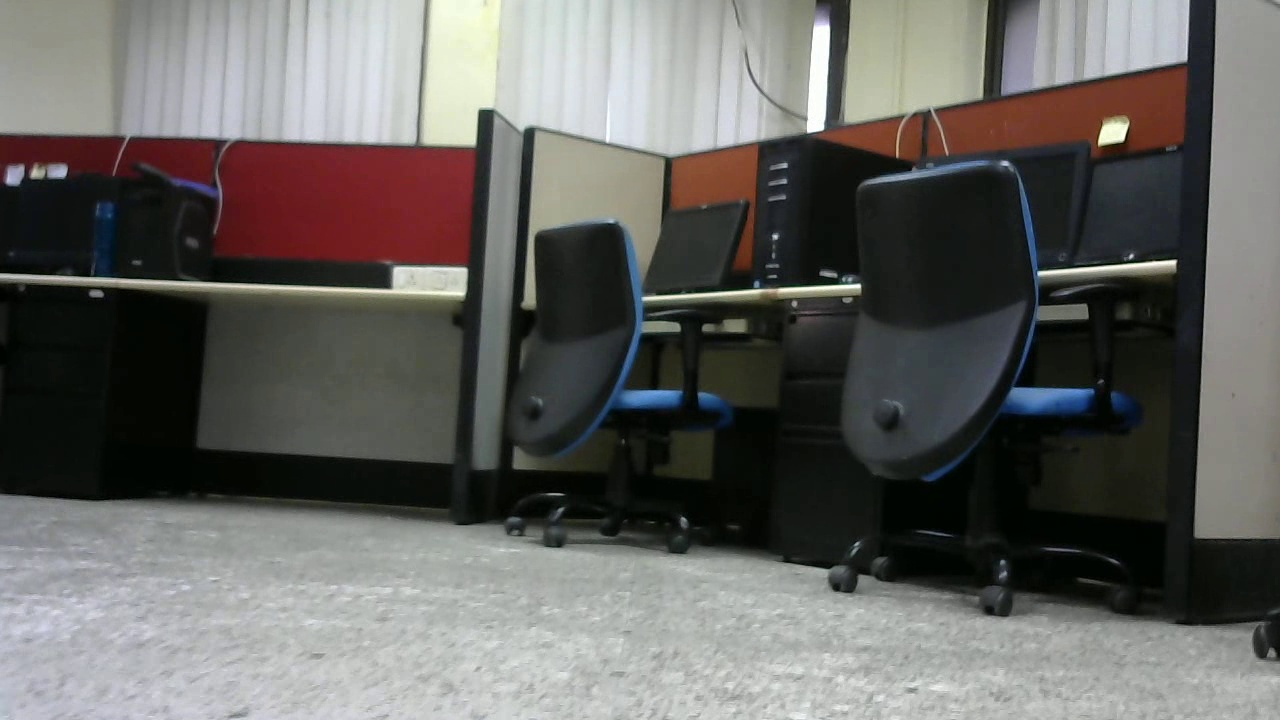chair: (831, 151, 1143, 611), (501, 209, 733, 558)
